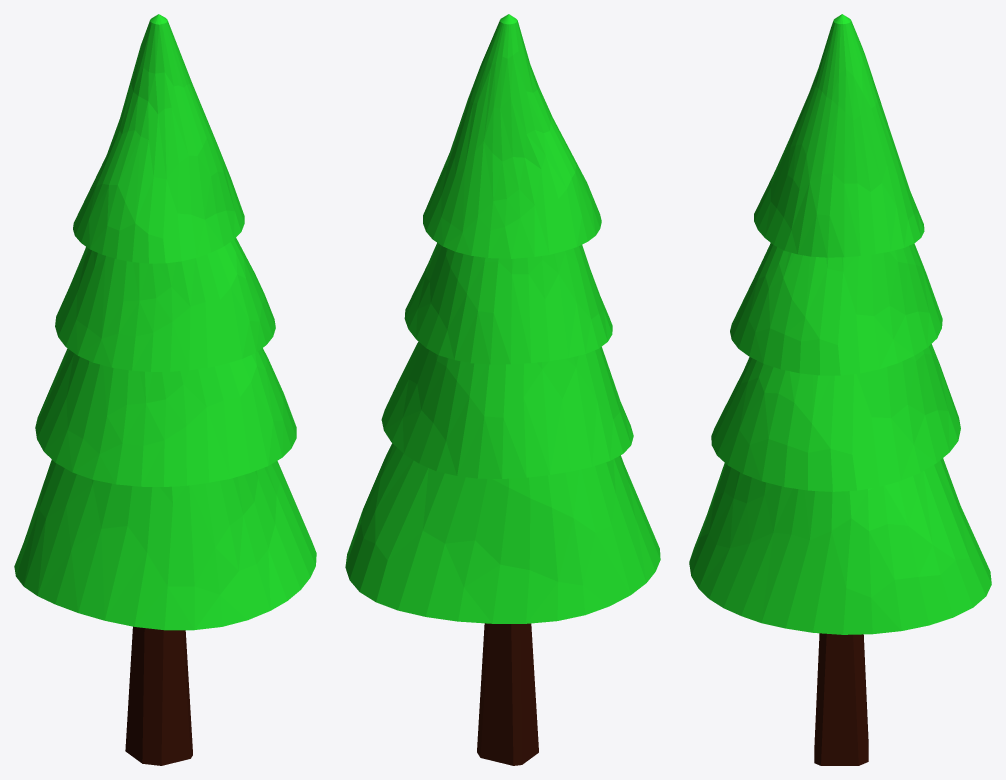
Rendered from tree4_v2.fbx.
3 renders of one model, left to right at view 1: azimuth 30°, elevation 25°; view 2: azimuth 150°, elevation 25°; view 3: azimuth 270°, elevation 25°, orthographic.
Parts seen in each view (by area): view 1: Cube.005; view 2: Cube.005; view 3: Cube.005.
Part boxes in pixels (x1=…): Cube.005: x1=14, y1=14, x2=316, y2=765; Cube.005: x1=345, y1=14, x2=660, y2=765; Cube.005: x1=689, y1=14, x2=991, y2=765.
Bounding box in the file's own units: 456 × 1187 × 440.
